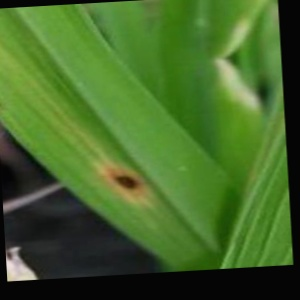Bacterial_Leaf_Blight: (102, 166, 148, 195)
